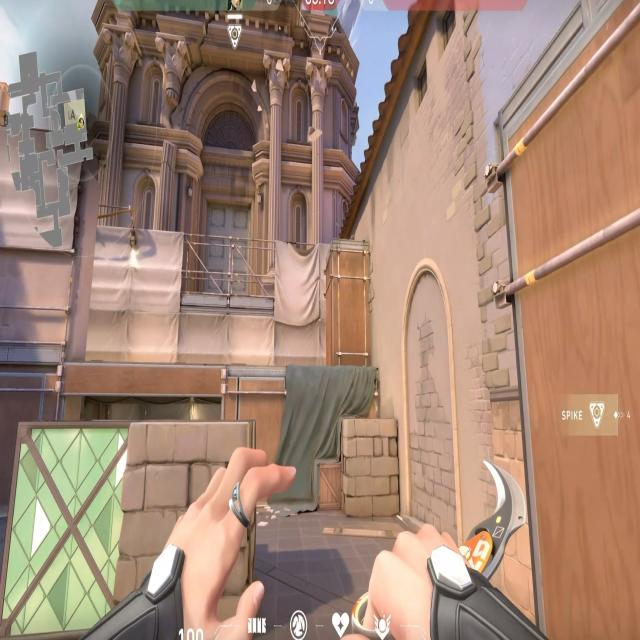A_Heaven_Box: (323, 236, 379, 369)
A_Heaven_Wall: (0, 124, 87, 367)
A_Site_Box: (0, 418, 258, 639)
